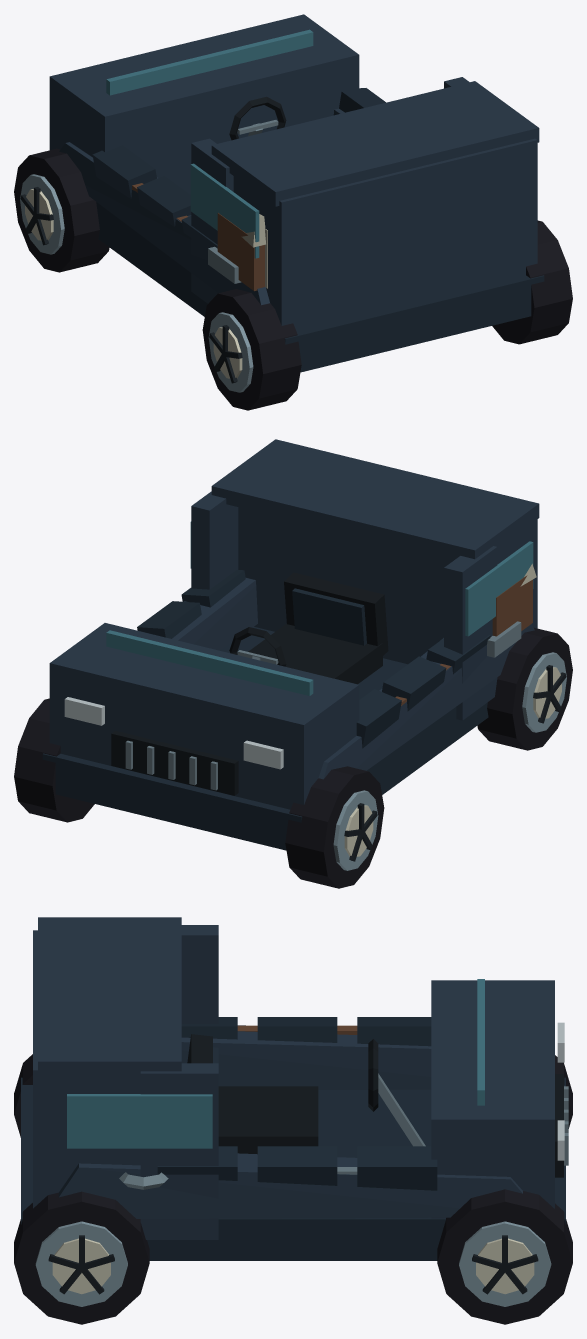
Rendered from kart.glb.
3 views of the same model, one above another, from view 1: azimuth 30°, elevation 25°; view 2: azimuth 150°, elevation 25°; view 3: azimuth 270°, elevation 25° (orthographic). The views are drawn at different scales.
Visible parts, largest first — view 1: identity-van-van-utility-body, wheel-rear-left, wheel-front-left, identity-van-motif-armor, wheel-rear-right, identity-van-motif-treasure, identity-van-driver-cockpit, identity-van-motif-tools; view 2: identity-van-van-utility-body, identity-van-driver-cockpit, wheel-front-left, wheel-rear-left, identity-van-motif-armor, wheel-front-right, identity-van-motif-treasure, identity-van-motif-tools; view 3: identity-van-van-utility-body, wheel-front-right, wheel-rear-right, identity-van-motif-armor, identity-van-driver-cockpit, identity-van-motif-tools, wheel-rear-left.
Boxes of the visible parts, left/top/right/bottom form: identity-van-van-utility-body: left=49, top=14, right=544, bottom=372; wheel-rear-left: left=202, top=289, right=301, bottom=410; wheel-front-left: left=14, top=148, right=109, bottom=272; identity-van-motif-armor: left=92, top=88, right=385, bottom=248; wheel-rear-right: left=492, top=220, right=572, bottom=344; identity-van-motif-treasure: left=217, top=213, right=267, bottom=291; identity-van-driver-cockpit: left=229, top=96, right=286, bottom=140; identity-van-motif-tools: left=132, top=183, right=241, bottom=283; identity-van-van-utility-body: left=42, top=439, right=539, bottom=850; identity-van-driver-cockpit: left=229, top=572, right=388, bottom=684; wheel-front-left: left=285, top=766, right=384, bottom=888; wheel-rear-left: left=477, top=627, right=572, bottom=750; identity-van-motif-armor: left=137, top=569, right=490, bottom=748; wheel-front-right: left=14, top=698, right=94, bottom=822; identity-van-motif-treasure: left=492, top=563, right=536, bottom=636; identity-van-motif-tools: left=395, top=621, right=521, bottom=705; identity-van-van-utility-body: left=21, top=917, right=568, bottom=1260; wheel-front-right: left=437, top=1189, right=572, bottom=1324; wheel-rear-right: left=14, top=1191, right=149, bottom=1324; identity-van-motif-armor: left=157, top=1017, right=437, bottom=1190; identity-van-driver-cockpit: left=187, top=1034, right=425, bottom=1154; identity-van-motif-tools: left=119, top=1025, right=357, bottom=1189; wheel-rear-left: left=14, top=1054, right=32, bottom=1137.
Bounding box in the file's own units: 2.13 × 1.38 × 2.8.
